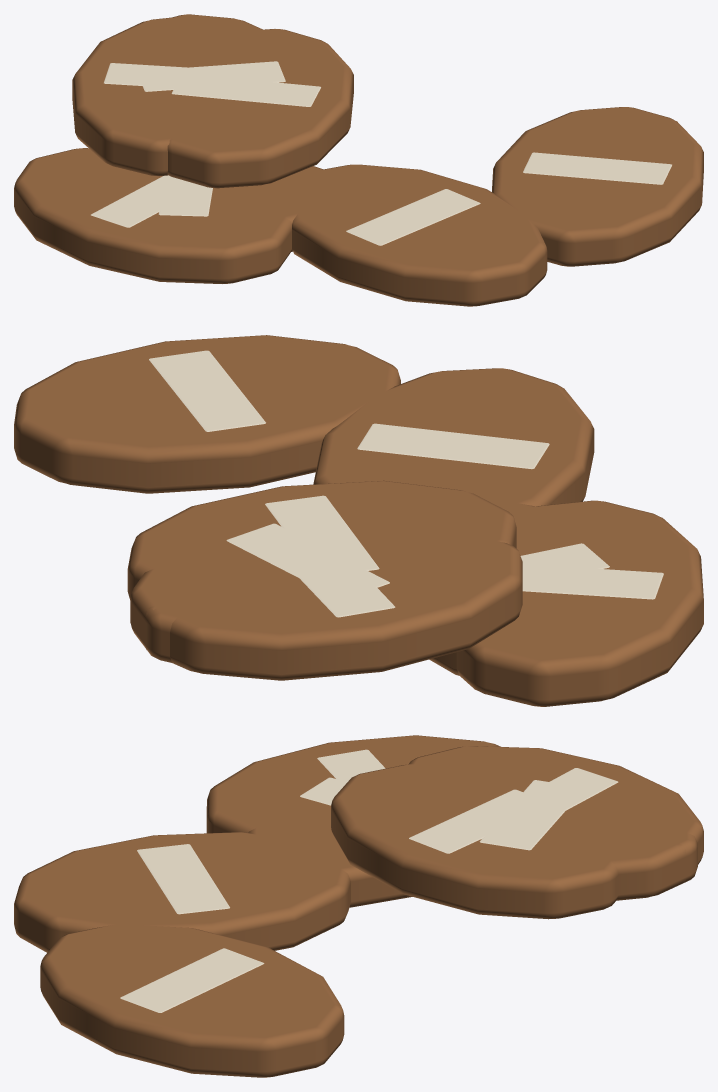
The model's file is Mushroom_Chopped.glb.
3 views of the same model, one above another, from view 1: azimuth 30°, elevation 25°; view 2: azimuth 150°, elevation 25°; view 3: azimuth 270°, elevation 25° (orthographic). The views are drawn at different scales.
Parts seen in each view (by area): view 1: Mushroom_Chopped; view 2: Mushroom_Chopped; view 3: Mushroom_Chopped.
Boxes of the visible parts, box(x1,y1,x2,y2) form: Mushroom_Chopped: box(14, 14, 703, 306); Mushroom_Chopped: box(14, 335, 703, 706); Mushroom_Chopped: box(14, 735, 703, 1077).
Size of the model in its own units: 0.0997 by 0.0122 by 0.0936.
